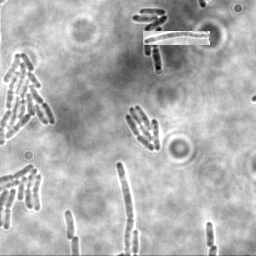Dividing: (114, 161, 133, 255), (143, 31, 210, 45), (204, 221, 215, 248)
Microcolony: (1, 51, 56, 147), (1, 162, 44, 231), (130, 8, 167, 72), (124, 106, 160, 153), (63, 208, 74, 240)
